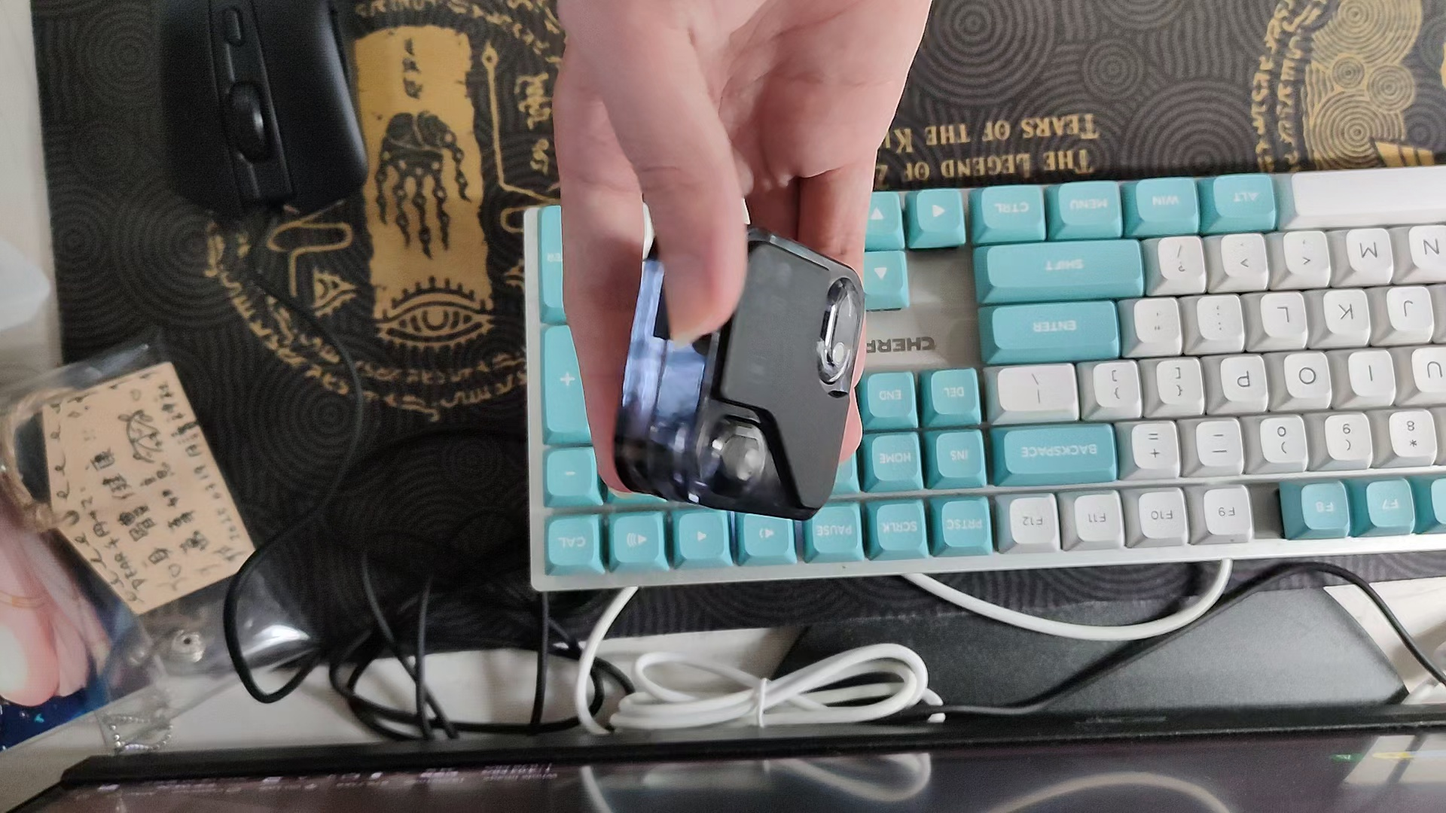Wireless_earphone: (613, 216, 866, 521)
